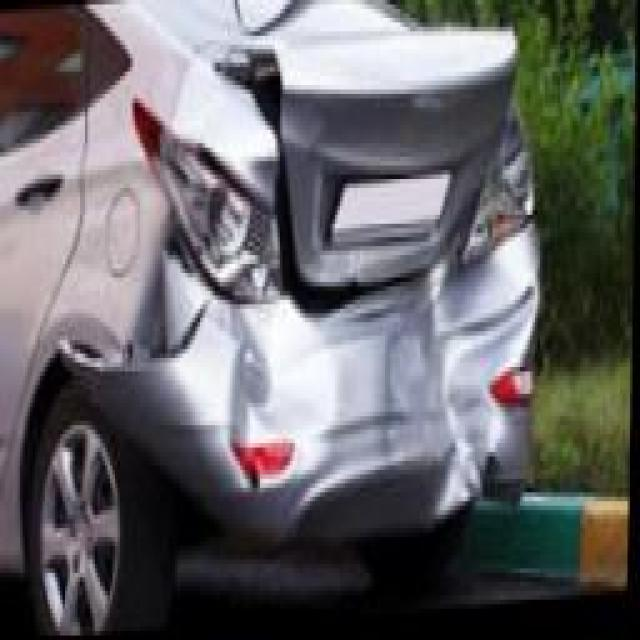Bumper: (60, 240, 537, 551)
Dickey: (207, 22, 517, 313)
Light: (136, 101, 281, 309)
